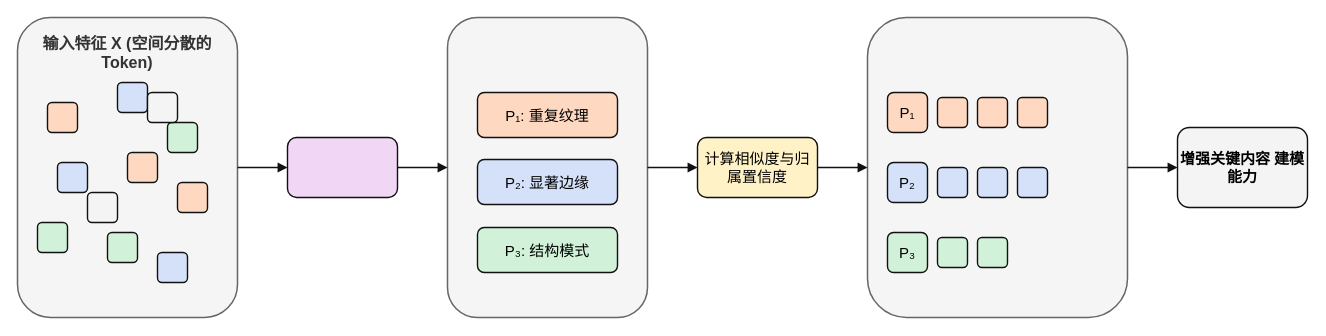
Some shapes in this 1326 by 336 pixel diagram are drawn without their labels. Here are the shapes that lost their labels. From the top down, the box of each, then its label:
(286, 136, 398, 198): 自适应生成 (映射模块)
(446, 16, 648, 318): 动态语义原型 P (作为内容中心)
(866, 16, 1128, 318): Token 归组与内容组织 (提供稳定的语义参照)
